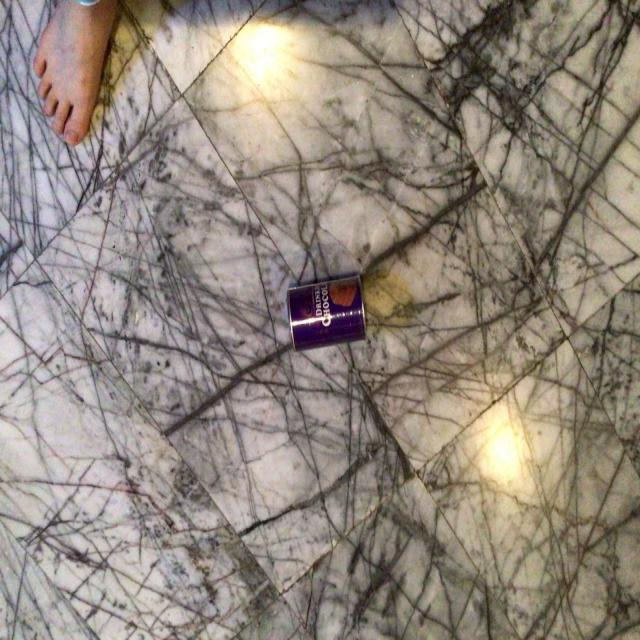can: (286, 276, 373, 352)
